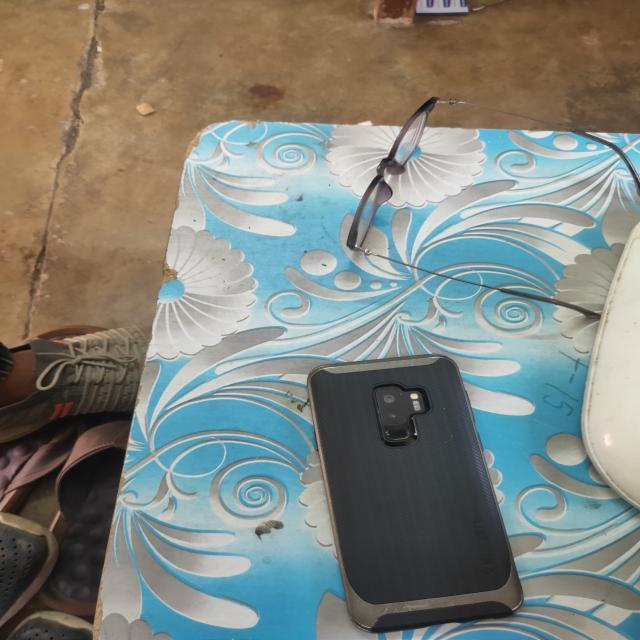Phone: (308, 350, 528, 640)
